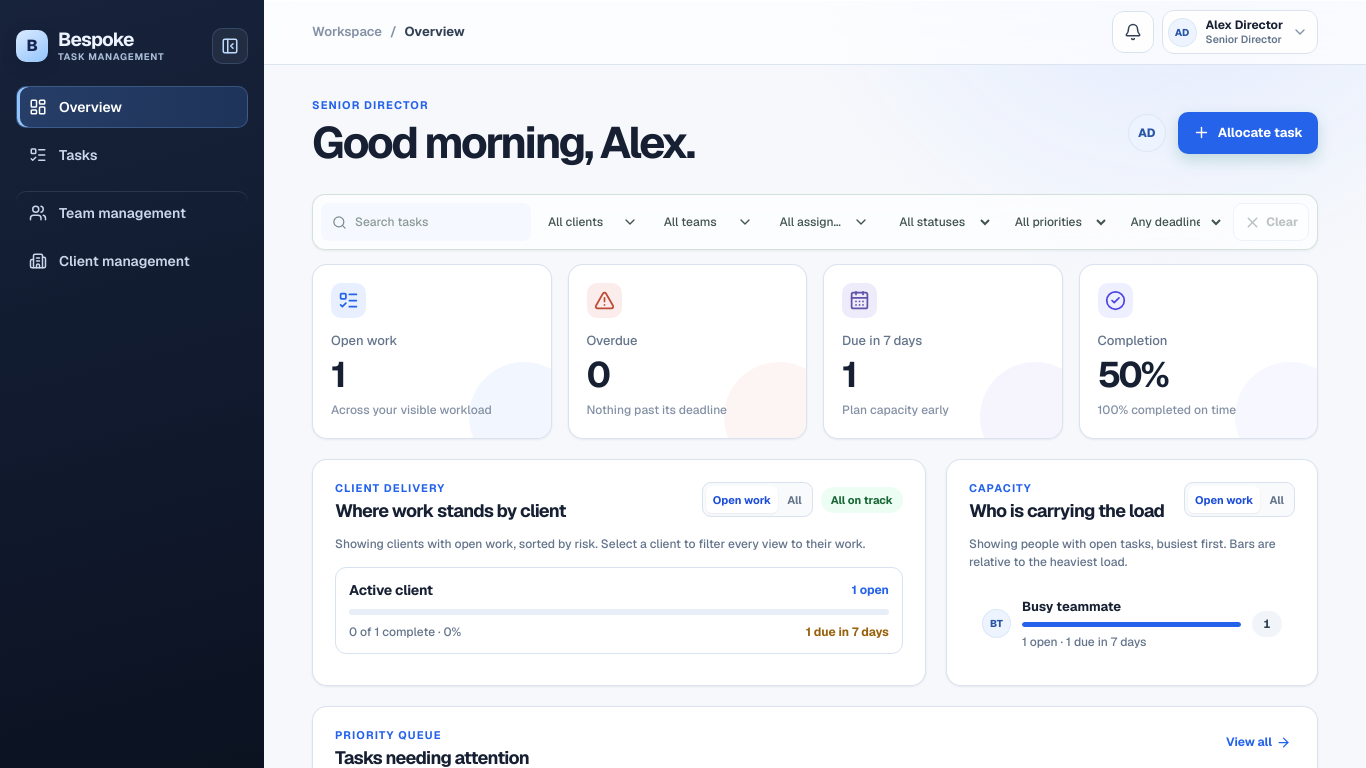
Test case: overview workload visibility › starts with active workload and reveals completed or zero-load rows through All
Click the button "All" next to "All on track" at (794, 500), box [780,486,809,513]
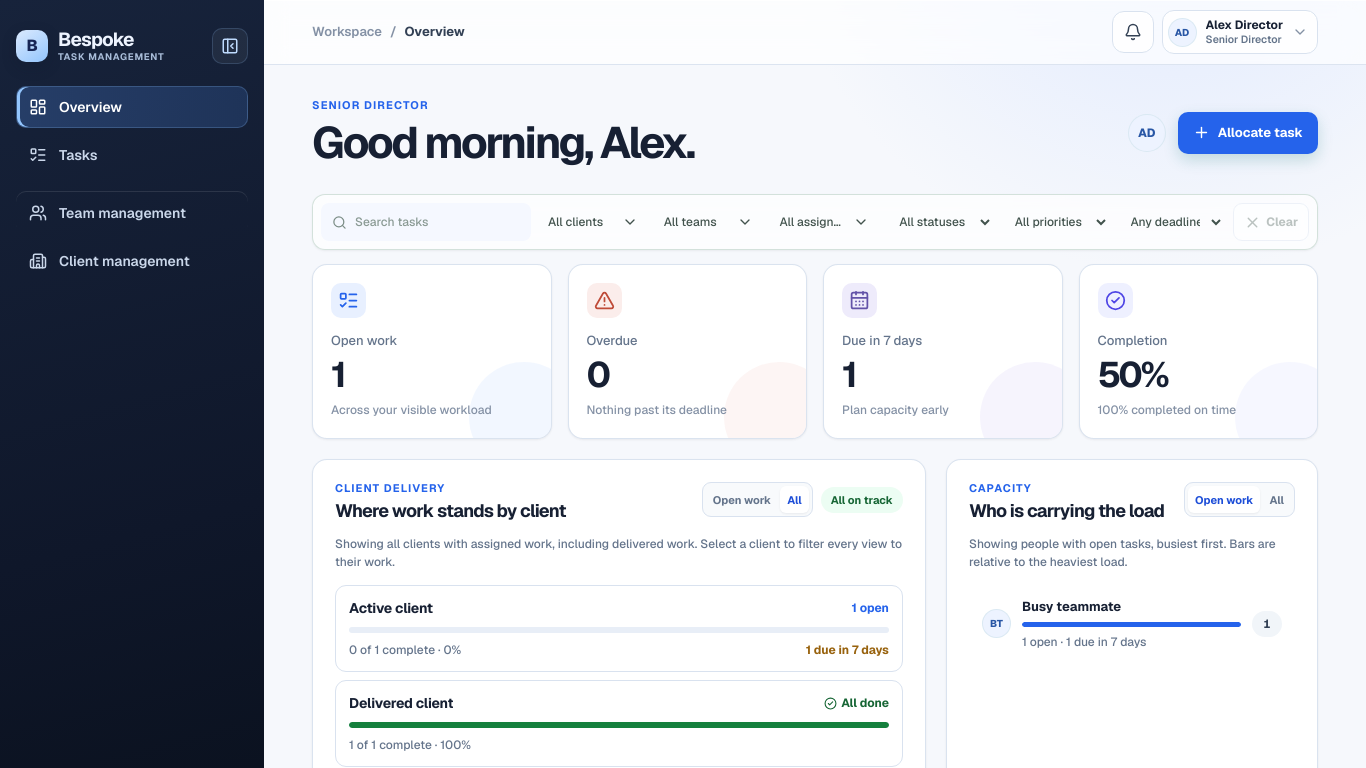
Click the button "All" in the row of "Who is carrying the load" at (1277, 500), box [1262,486,1291,513]
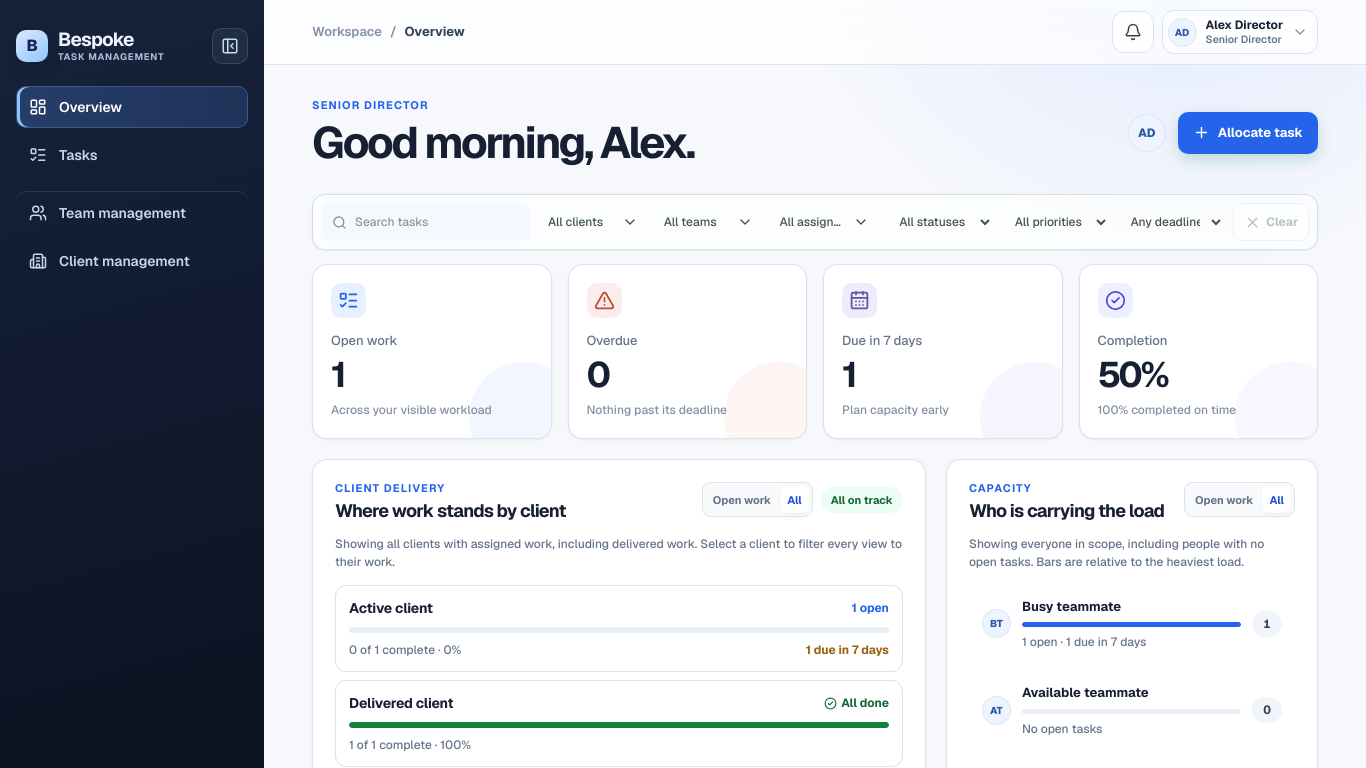
Check: the button "Delivered client All done 1 of 1 complete · 100%" is shown, box [335,680,903,767]
Check: the button "AT Available teammate No open tasks 0" is shown, box [969,671,1295,750]
